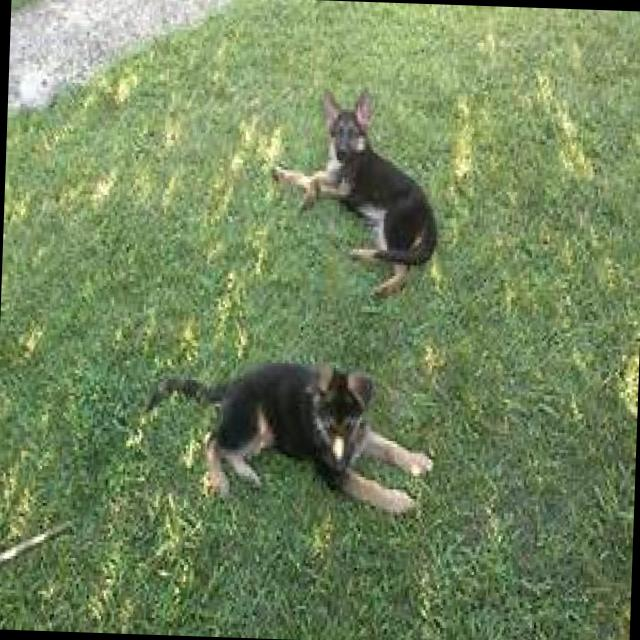dog: (140, 352, 438, 516), (268, 83, 446, 300)
